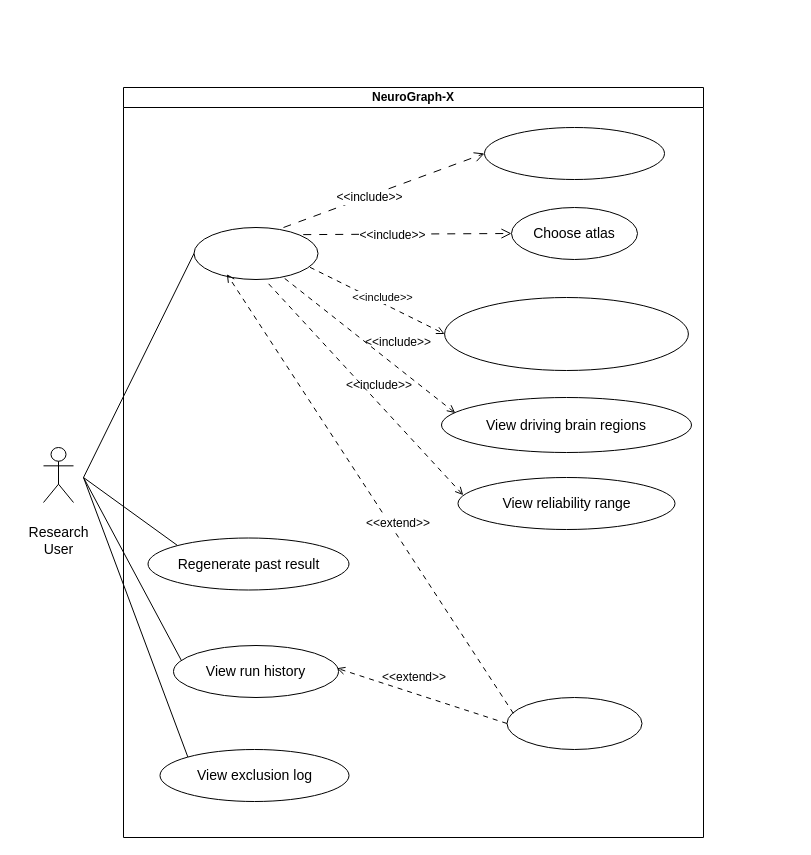
The diagram is 811 pixels wide and 855 high, and some of its shapes have lost their labels. The centre of each missing label's shape, as x and y in pixels:
"Export report" belongs at point 574,723.
"Run analysis" belongs at point 255,253.
"Select participant" belongs at point 574,153.
"View classification result and calibrated confidence" belongs at point 566,333.
